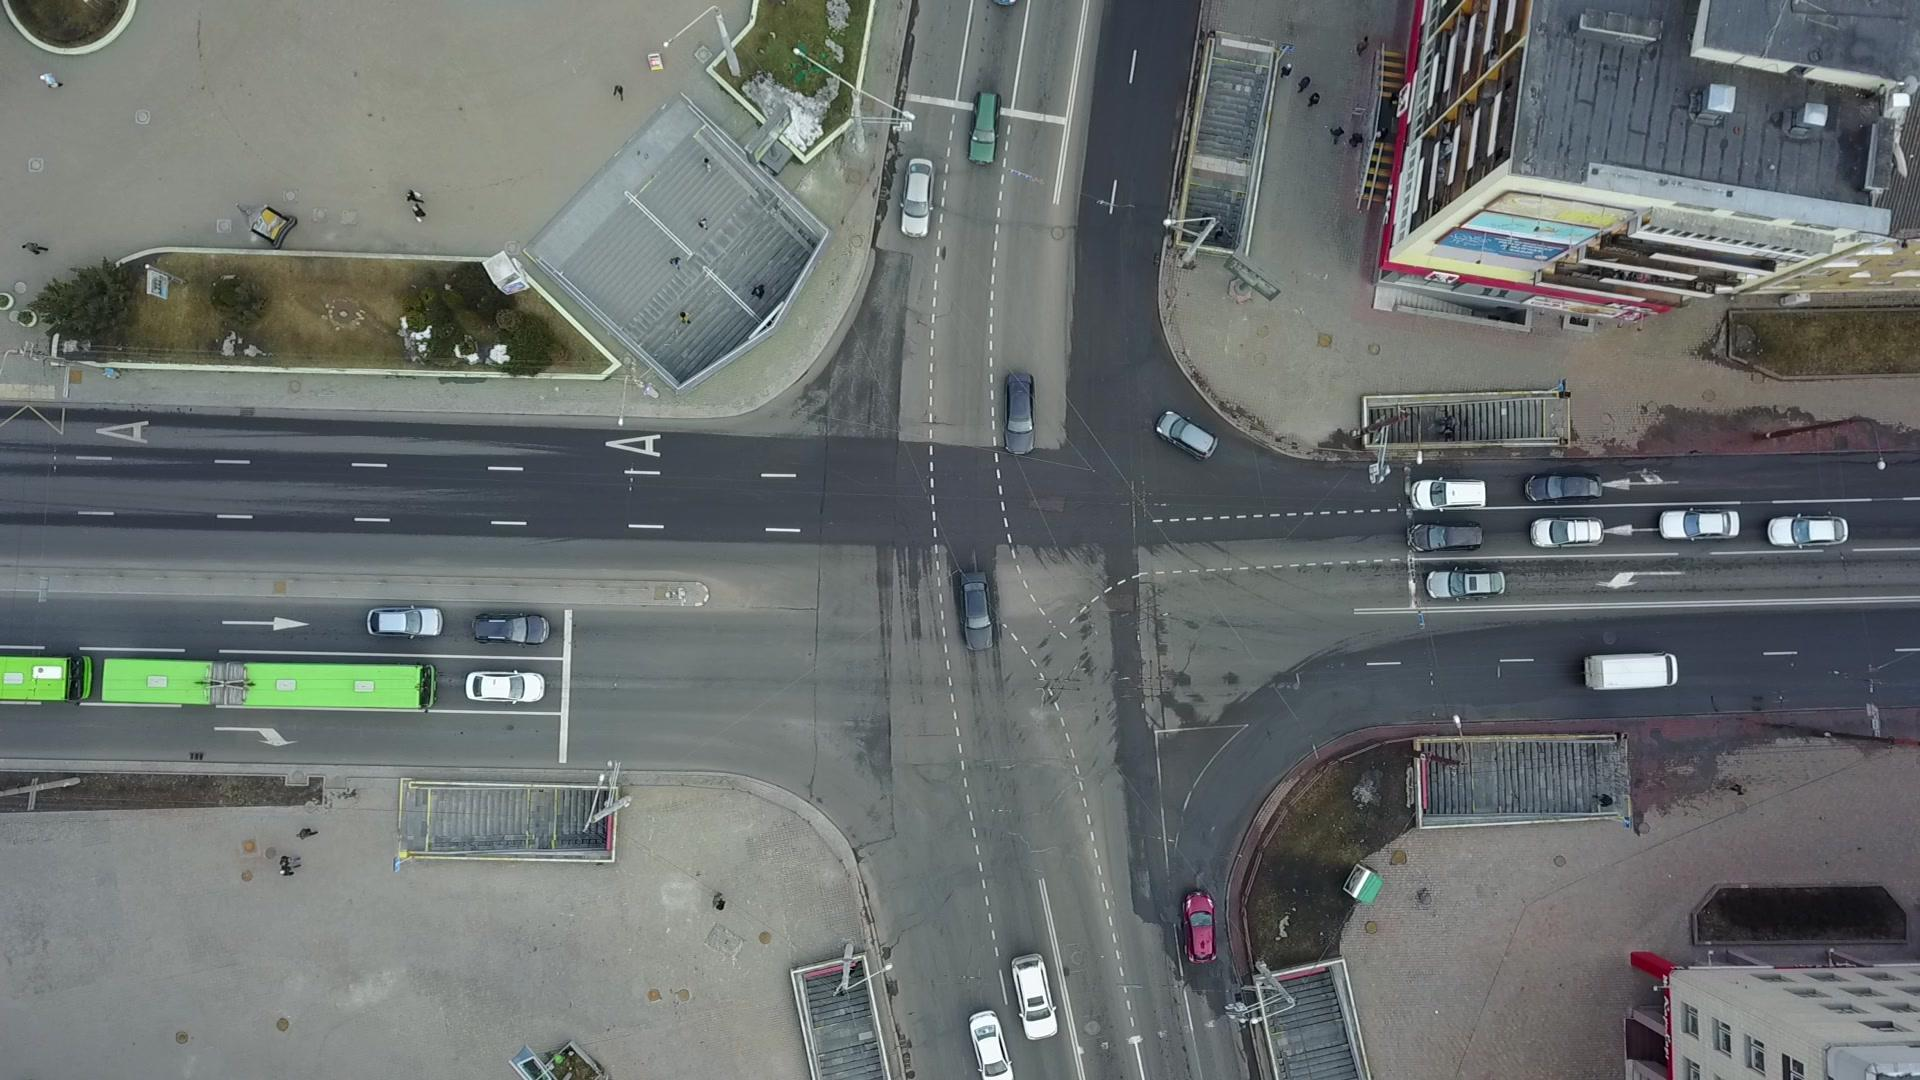car: (1009, 951, 1057, 1040), (1152, 408, 1221, 461), (966, 1007, 1015, 1078), (957, 570, 996, 652), (1767, 512, 1849, 550), (1179, 888, 1220, 964), (898, 155, 934, 239), (1526, 469, 1605, 507), (470, 610, 550, 647), (1658, 506, 1742, 541), (1001, 370, 1035, 455), (365, 603, 443, 640), (465, 670, 546, 705), (1424, 566, 1506, 600), (1529, 514, 1606, 550), (967, 89, 1001, 166), (1410, 476, 1487, 510), (1405, 521, 1485, 552)
